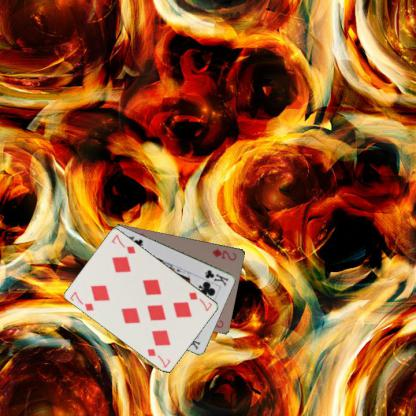2d: (210, 246, 238, 262)
7d: (68, 289, 95, 312), (186, 290, 214, 312)
Kc: (203, 267, 230, 287)
